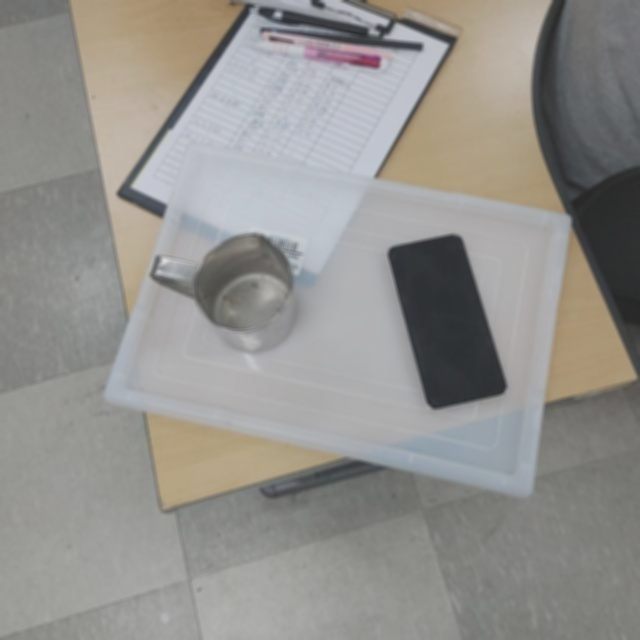cup: (151, 230, 297, 354)
phone: (386, 234, 510, 410)
